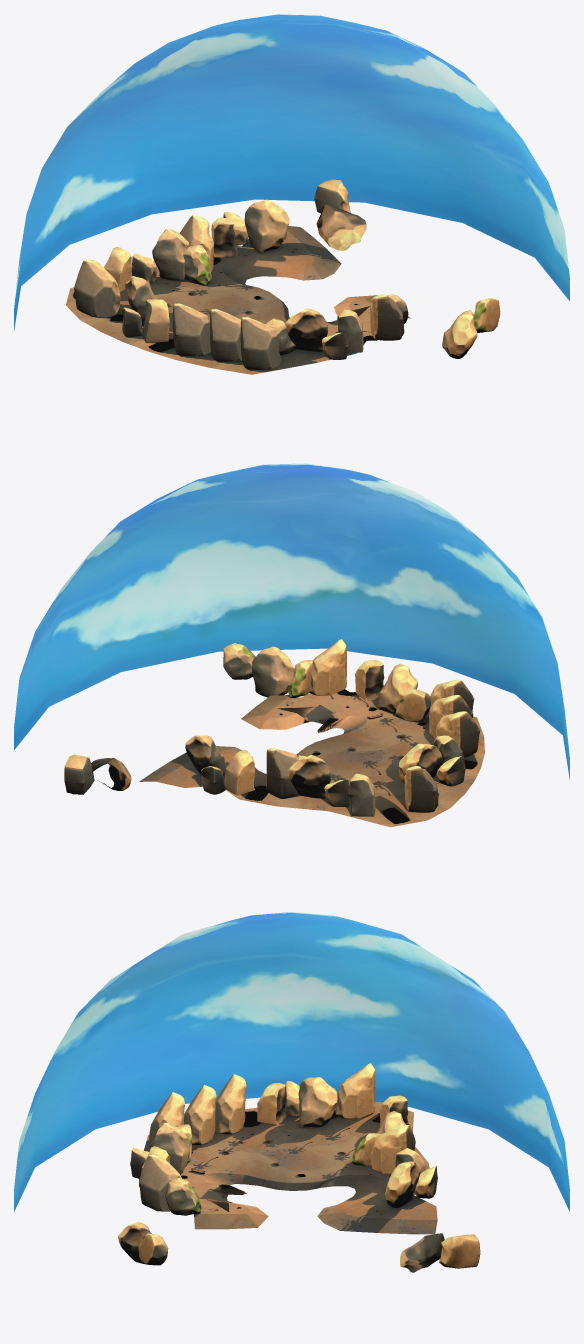
File: model_chunk_3.glb
3 views of the same model, one above another, from view 1: azimuth 30°, elevation 25°; view 2: azimuth 150°, elevation 25°; view 3: azimuth 270°, elevation 25° (orthographic).
Parts seen in each view (by area): view 1: Skydome001, Ground, rock05007, Rock01006, rock05004, rock05006, Rock01002, rock05005, Rock01005, Rock01004, rock05009, Rock01003 (+11 smaller); view 2: Skydome001, Ground, Rock01003, rock05009, Rock01005, rock05007, rock05008, rock05006, Rock01004, rock04005, Rock01006, rock03002 (+12 smaller); view 3: Skydome001, Ground, rock05007, Rock01_003, rock05009, rock05006, rock05005, rock05008, rock03002, Rock01006, Rock01004, Rock01002 (+8 smaller).
Boxes of the visible parts, bbox=[...] form: Skydome001: bbox=[14, 14, 569, 330]; Ground: bbox=[66, 226, 410, 374]; rock05007: bbox=[74, 259, 120, 317]; Rock01006: bbox=[244, 199, 289, 252]; rock05004: bbox=[240, 317, 281, 370]; rock05006: bbox=[172, 303, 211, 356]; Rock01002: bbox=[316, 203, 366, 250]; rock05005: bbox=[209, 309, 242, 362]; Rock01005: bbox=[152, 229, 188, 280]; Rock01004: bbox=[285, 308, 327, 351]; rock05009: bbox=[370, 294, 404, 340]; Rock01003: bbox=[442, 310, 477, 358]; Skydome001: bbox=[14, 463, 569, 779]; Ground: bbox=[139, 689, 484, 827]; Rock01003: bbox=[252, 646, 294, 697]; rock05009: bbox=[309, 639, 346, 695]; Rock01005: bbox=[288, 755, 330, 798]; rock05007: bbox=[404, 766, 438, 812]; rock05008: bbox=[266, 748, 300, 798]; rock05006: bbox=[436, 711, 480, 757]; Rock01004: bbox=[378, 663, 417, 713]; rock04005: bbox=[224, 750, 254, 795]; Rock01006: bbox=[185, 735, 225, 775]; rock03002: bbox=[64, 754, 94, 794]; Skydome001: bbox=[14, 912, 569, 1211]; Ground: bbox=[139, 1101, 437, 1234]; rock05007: bbox=[335, 1063, 375, 1118]; Rock01_003: bbox=[298, 1077, 337, 1127]; rock05009: bbox=[139, 1154, 181, 1211]; rock05006: bbox=[215, 1074, 246, 1134]; rock05005: bbox=[184, 1084, 216, 1144]; rock05008: bbox=[371, 1125, 415, 1173]; rock03002: bbox=[439, 1234, 480, 1268]; Rock01006: bbox=[384, 1161, 420, 1207]; Rock01004: bbox=[150, 1122, 189, 1173]; Rock01002: bbox=[400, 1233, 444, 1272].
Size of the model in its own units: 88.79 by 49.54 by 88.79.
Materials: 1 (1 with a texture image).
